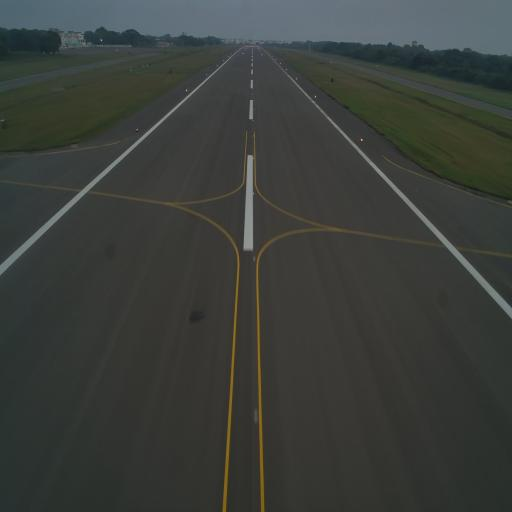on: (249, 405, 263, 426), (250, 252, 260, 264), (251, 188, 259, 198), (359, 134, 364, 146), (134, 126, 140, 132), (251, 155, 255, 162)
